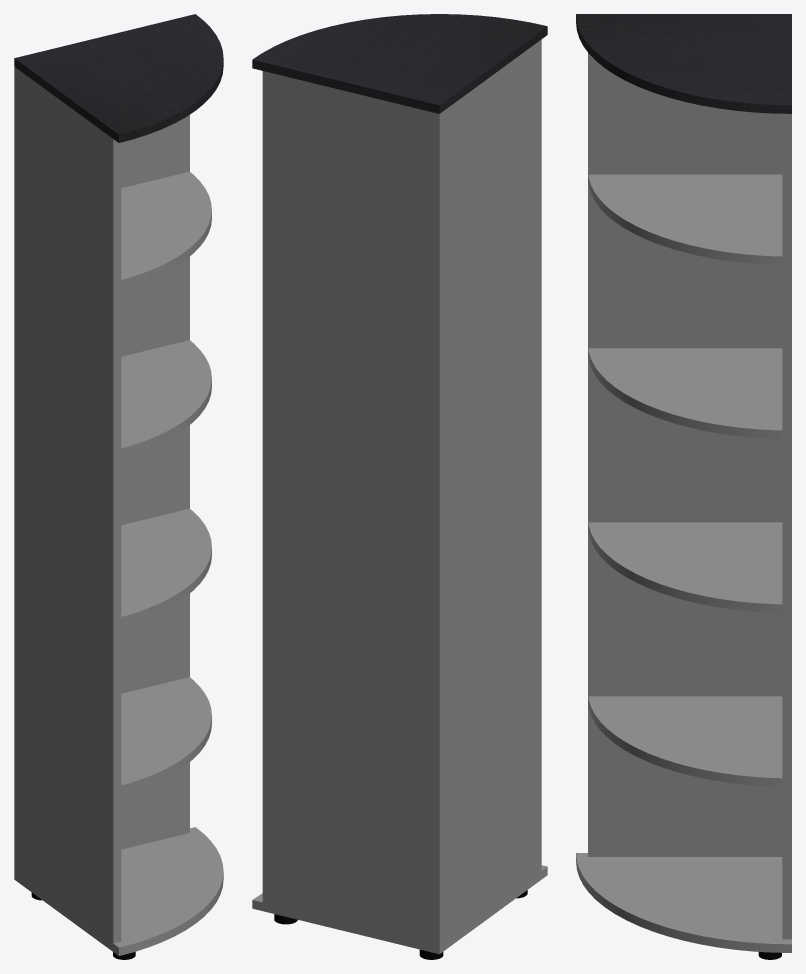
The model's file is angolo198W.obj.
The picture shows the model from 3 angles, left to right: view 1: azimuth 30°, elevation 25°; view 2: azimuth 150°, elevation 25°; view 3: azimuth 270°, elevation 25°; orthographic projection. The views are drawn at different scales.
Visible parts, largest first — view 1: Line17_6, Cylinder56_5, Cylinder51_7, Cylinder53_2, Cylinder52_1, Cylinder55_4, Cylinder54_3; view 2: Line17_6, Cylinder56_5, Cylinder51_7, Cylinder53_2, Cylinder52_1, Cylinder54_3, Cylinder55_4; view 3: Line17_6, Cylinder56_5, Cylinder51_7, Cylinder55_4, Cylinder54_3, Cylinder53_2, Cylinder52_1.
Part boxes in pixels (x1,y1,x2,y2): Line17_6: [14, 67, 189, 943]; Cylinder56_5: [14, 14, 223, 142]; Cylinder51_7: [14, 827, 223, 955]; Cylinder53_2: [14, 508, 211, 626]; Cylinder52_1: [14, 677, 211, 795]; Cylinder55_4: [16, 171, 211, 289]; Cylinder54_3: [16, 340, 211, 458]; Line17_6: [262, 39, 541, 945]; Cylinder56_5: [252, 14, 547, 113]; Cylinder51_7: [252, 865, 547, 954]; Cylinder53_2: [262, 538, 541, 618]; Cylinder52_1: [262, 711, 541, 790]; Cylinder54_3: [262, 362, 541, 444]; Cylinder55_4: [262, 188, 541, 270]; Line17_6: [588, 53, 791, 939]; Cylinder56_5: [576, 14, 791, 113]; Cylinder51_7: [576, 853, 791, 952]; Cylinder55_4: [588, 174, 782, 265]; Cylinder54_3: [588, 348, 782, 438]; Cylinder53_2: [588, 522, 782, 612]; Cylinder52_1: [588, 696, 782, 786].
Bounding box in the file's own units: 45 × 198 × 45.
